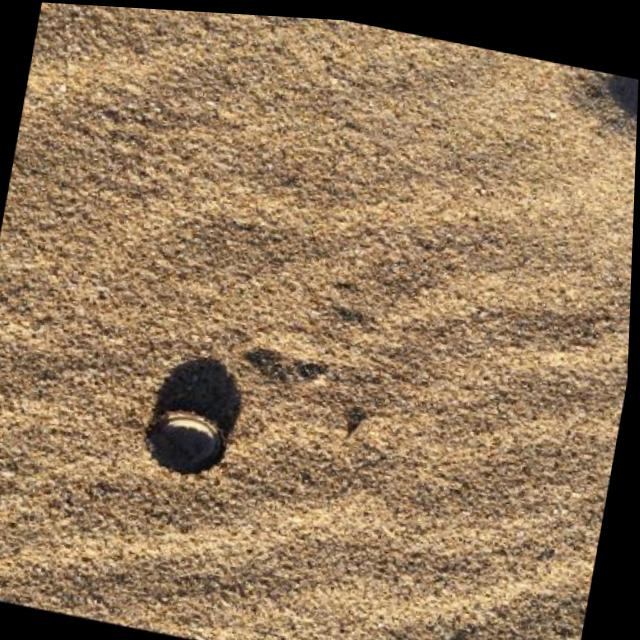metal: (137, 403, 234, 487)
